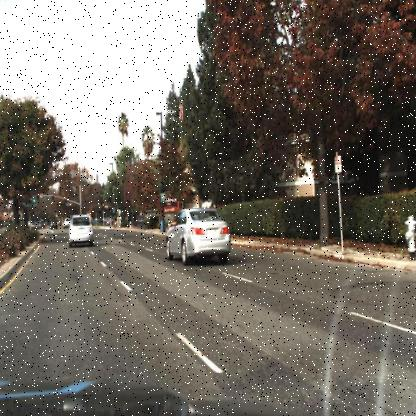car: (164, 204, 237, 270), (67, 211, 95, 248)
